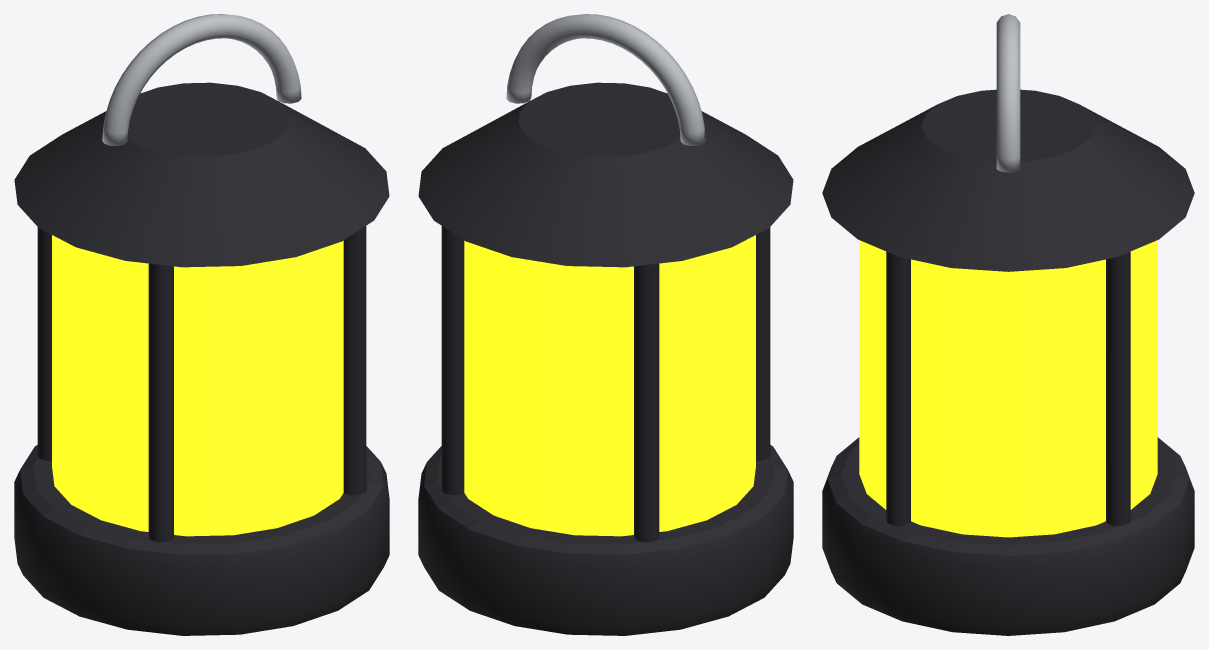
Rendered from lantern.fbx.
3 views of the same model, side by side, from view 1: azimuth 30°, elevation 25°; view 2: azimuth 150°, elevation 25°; view 3: azimuth 270°, elevation 25° (orthographic).
Parts seen in each view (by area): view 1: Lantern; view 2: Lantern; view 3: Lantern.
Boxes of the visible parts, x1=… form: Lantern: x1=14, y1=14, x2=389, y2=635; Lantern: x1=418, y1=14, x2=793, y2=635; Lantern: x1=822, y1=14, x2=1194, y2=635.
Bounding box in the file's own units: 0.6 × 0.96 × 0.6.
